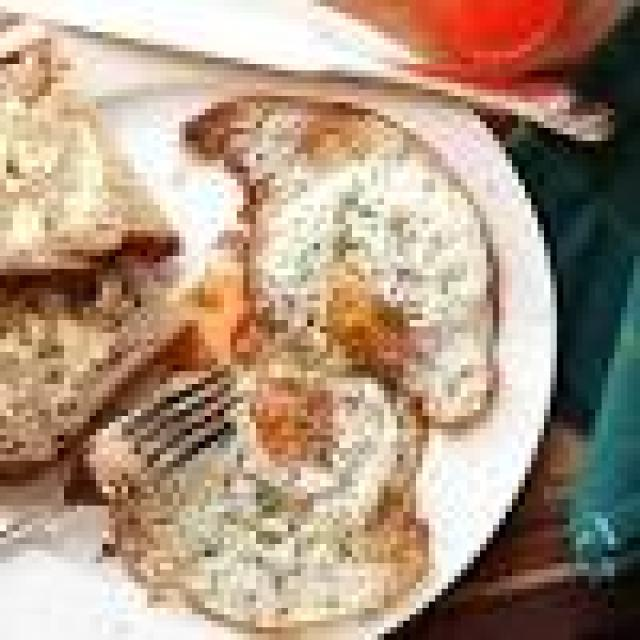Egg: (188, 100, 496, 423), (102, 358, 428, 628)
